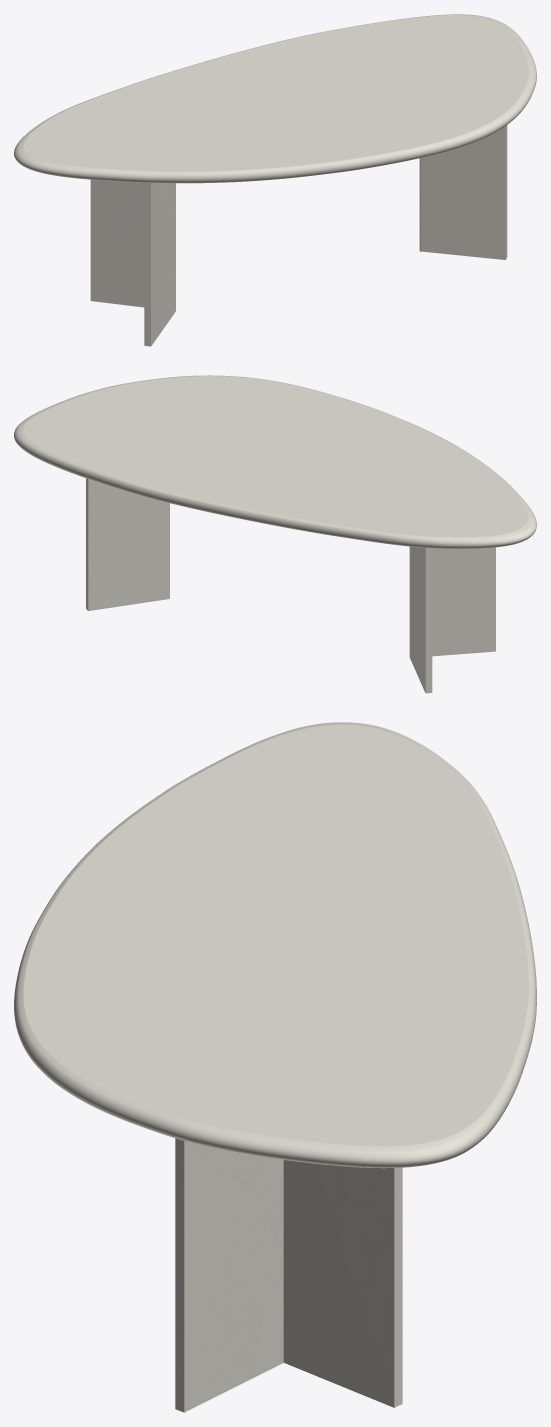
The model's file is pale_pebbletop_round_valleyv.glb.
3 renders of one model, top to bottom at view 1: azimuth 30°, elevation 25°; view 2: azimuth 150°, elevation 25°; view 3: azimuth 270°, elevation 25°, orthographic. The views are drawn at different scales.
Visible parts, largest first — view 1: round_pebbletop, valleyv; view 2: round_pebbletop, valleyv; view 3: round_pebbletop, valleyv.
Part boxes in pixels (bbox=[...]): round_pebbletop: bbox=[14, 14, 536, 183]; valleyv: bbox=[90, 125, 507, 346]; round_pebbletop: bbox=[14, 375, 536, 548]; valleyv: bbox=[86, 478, 495, 693]; round_pebbletop: bbox=[14, 722, 536, 1168]; valleyv: bbox=[175, 1138, 402, 1412].
Size of the model in its own units: 7.5 by 2.5 by 3.8.
Materials: 1 (1 with a texture image).
